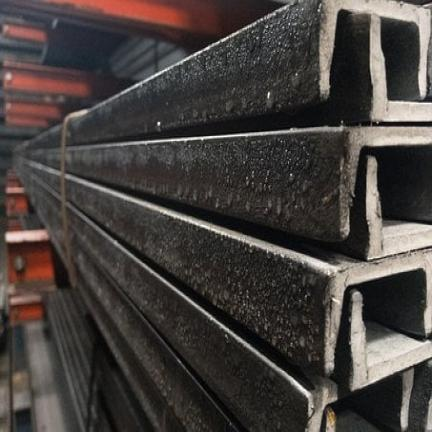besi_tidak_karat: (14, 0, 431, 431)
